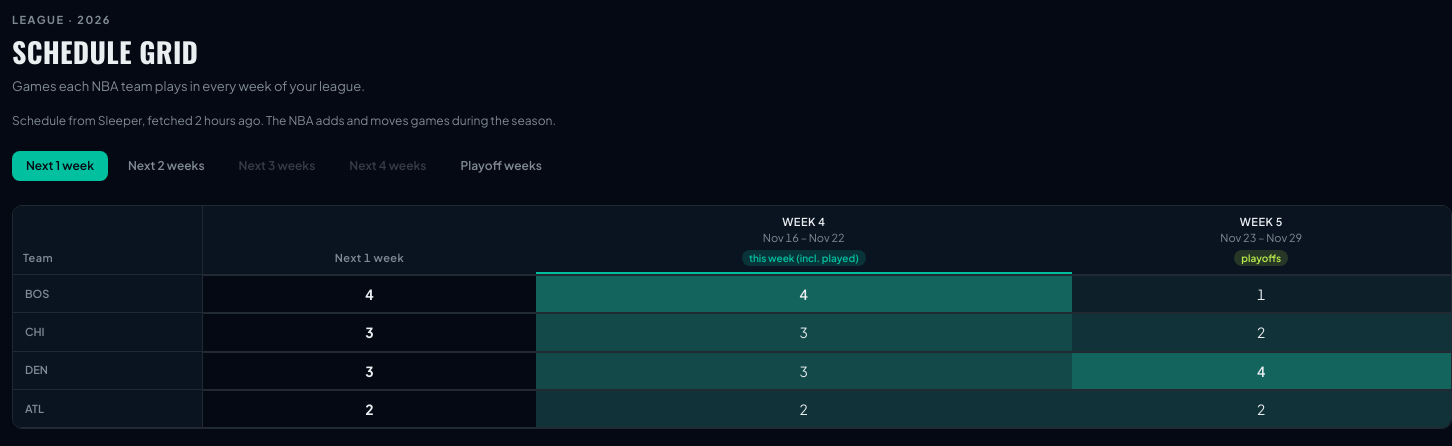
Test case: Schedule grid › never sums past the last league week
Expected: the column heading "BOS" is shown, top-left (13, 275), bottom-right (203, 314)
Click the button "Next 2 weeks". click: (166, 166)
box: top-left (114, 151), bottom-right (219, 181)
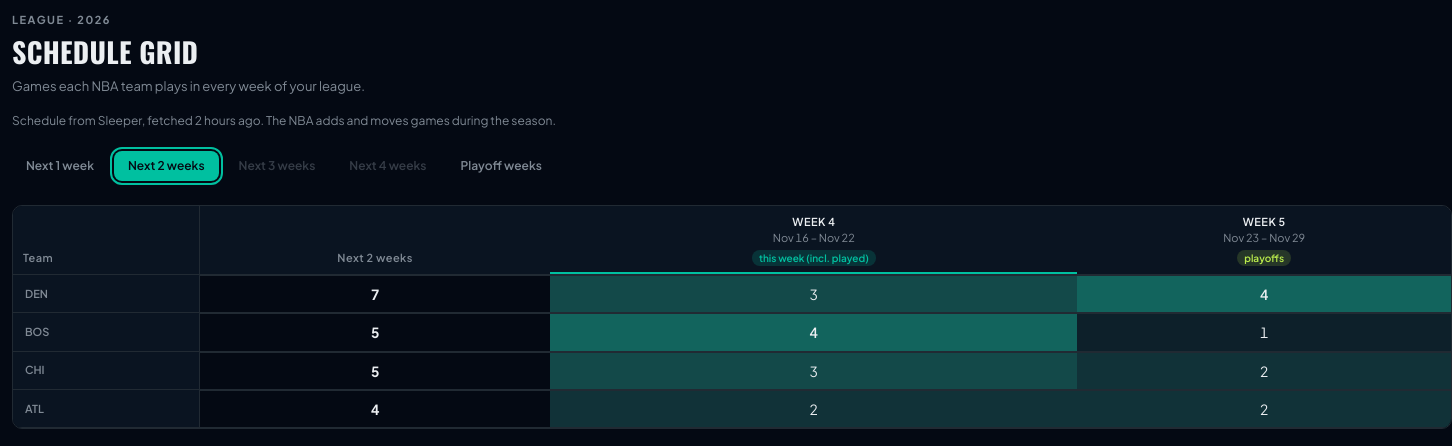
Expected: the cell "4" next to "ATL" is shown, top-left (371, 400), bottom-right (379, 418)
Expected: the cell "5" next to "CHI" is shown, top-left (371, 362), bottom-right (379, 380)
